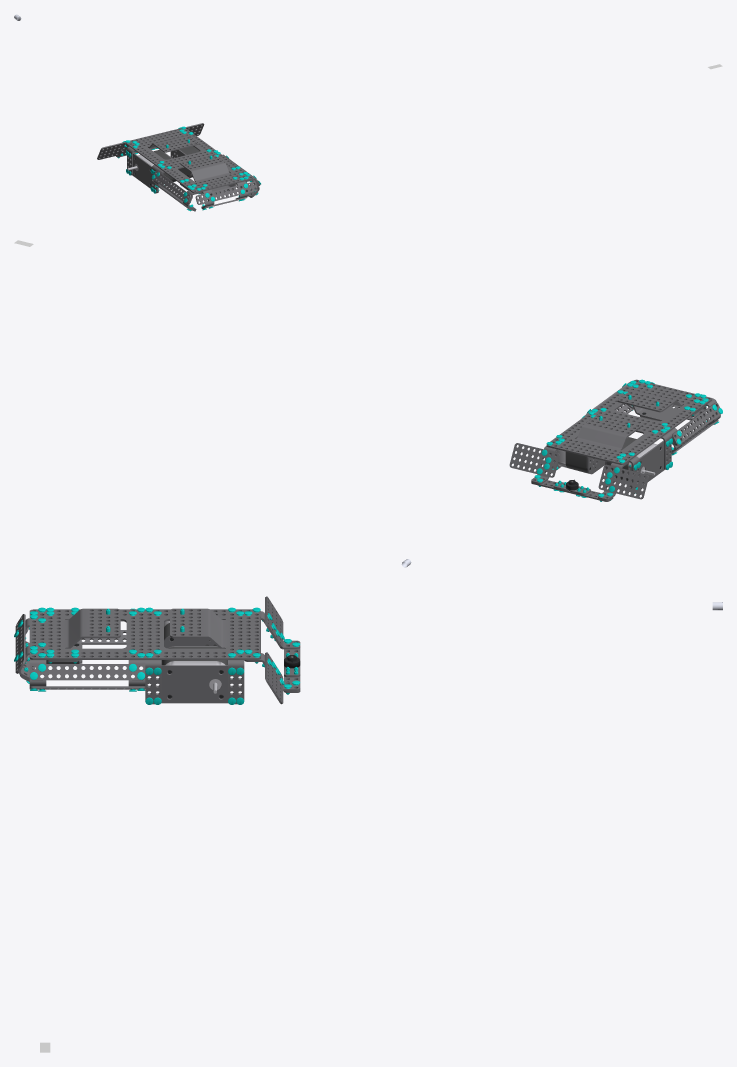
Rendered from chassis_asm_dessimate.dae.
The picture shows the model from 3 angles, top to bottom: view 1: azimuth 30°, elevation 25°; view 2: azimuth 150°, elevation 25°; view 3: azimuth 270°, elevation 25°; orthographic projection. The views are drawn at different scales.
Visible parts, largest first — view 1: 0000060413_ASM, 0000060378_ASM, 0000056421_ASM, 0000060377_ASM, 0000060934_ASM; view 2: 0000060413_ASM, 0000060934_ASM, 0000060377_ASM, 0000056421_ASM, 0000056421_ASM.001; view 3: 0000060413_ASM, 0000056421_ASM.001, 0000060377_ASM.001, 0000060934_ASM, 0000060415_ASM, 0000060378_ASM.
Part boxes in pixels (<box>): 0000060413_ASM: <box>125,128,252,193</box>; 0000060378_ASM: <box>195,181,257,209</box>; 0000056421_ASM: <box>127,149,175,192</box>; 0000060377_ASM: <box>153,168,201,211</box>; 0000060934_ASM: <box>97,123,204,159</box>; 0000060413_ASM: <box>546,379,711,464</box>; 0000060934_ASM: <box>509,443,648,501</box>; 0000060377_ASM: <box>668,399,720,453</box>; 0000056421_ASM: <box>605,437,664,488</box>; 0000056421_ASM.001: <box>550,449,604,474</box>; 0000060413_ASM: <box>29,608,260,659</box>; 0000056421_ASM.001: <box>147,646,242,703</box>; 0000060377_ASM.001: <box>29,659,145,689</box>; 0000060934_ASM: <box>244,596,300,704</box>; 0000060415_ASM: <box>145,660,244,704</box>; 0000060378_ASM: <box>15,614,35,681</box>.
Size of the model in its own units: 1.03 by 0.6873 by 0.0805.
